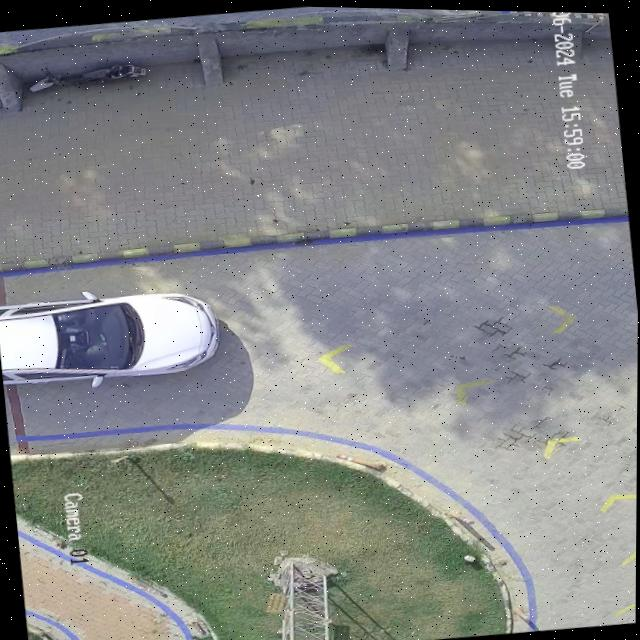car: (0, 291, 217, 385)
